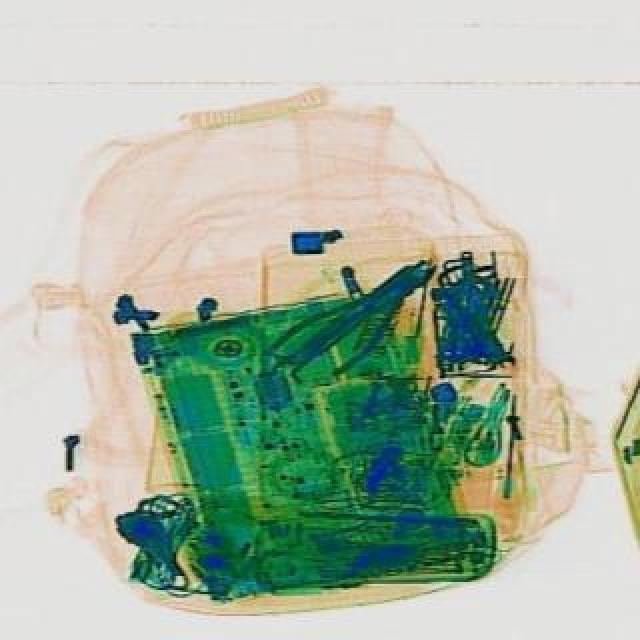wrench: (264, 234, 452, 394)
